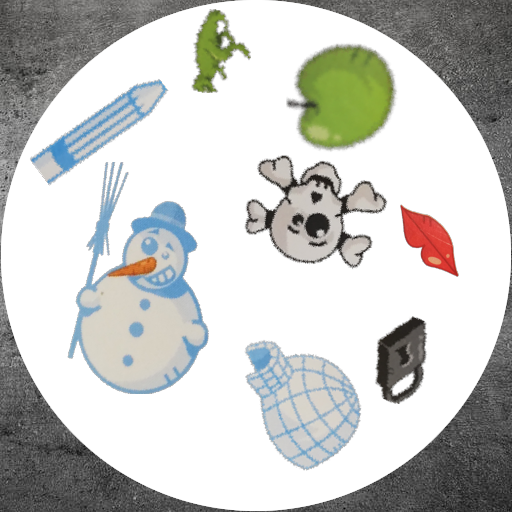apple_icon: (286, 42, 406, 162)
dino_icon: (167, 9, 251, 93)
igloo_icon: (221, 325, 367, 471)
lips_icon: (393, 198, 474, 279)
lock_icon: (360, 316, 448, 404)
pen_icon: (26, 53, 178, 205)
skull_icon: (230, 134, 388, 292)
snowman_icon: (12, 162, 244, 394)
